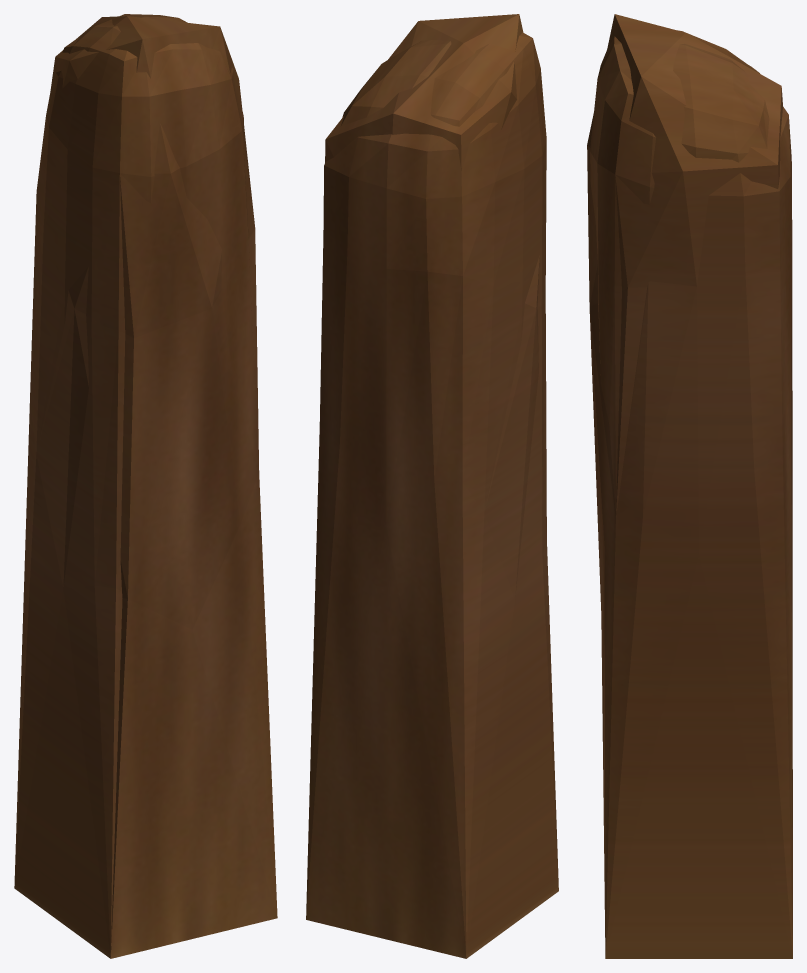
The model's file is Fence_Pole.fbx.
3 renders of one model, left to right at view 1: azimuth 30°, elevation 25°; view 2: azimuth 150°, elevation 25°; view 3: azimuth 270°, elevation 25°, orthographic. The views are drawn at different scales.
Visible parts, largest first — view 1: Fence#2, Fence#3; view 2: Fence#2, Fence#3; view 3: Fence#2, Fence#3.
Part boxes in pixels (x1=…): Fence#2: x1=14, y1=14, x2=277, y2=958; Fence#3: x1=36, y1=16, x2=259, y2=958; Fence#2: x1=306, y1=32, x2=558, y2=958; Fence#3: x1=325, y1=14, x2=539, y2=838; Fence#2: x1=590, y1=30, x2=792, y2=958; Fence#3: x1=587, y1=14, x2=782, y2=813.
Bounding box in the file's own units: 0.4185 × 2.08 × 0.4391.
1 material, 1 textured.
